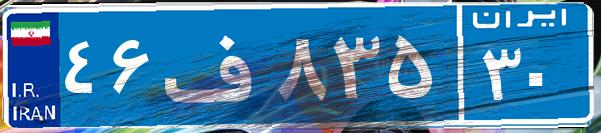0: (525, 38, 570, 115)
3: (330, 28, 385, 110), (475, 38, 525, 113)
4: (57, 26, 110, 107)
5: (385, 28, 445, 110)
6: (110, 28, 158, 105)
8: (273, 28, 330, 110)
ف: (158, 15, 273, 115)
